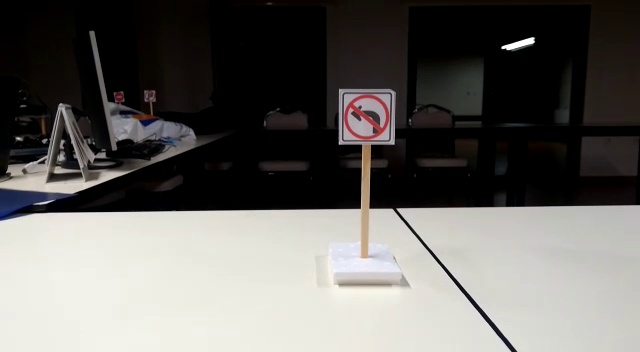sola_donulmez: (340, 85, 399, 145)
